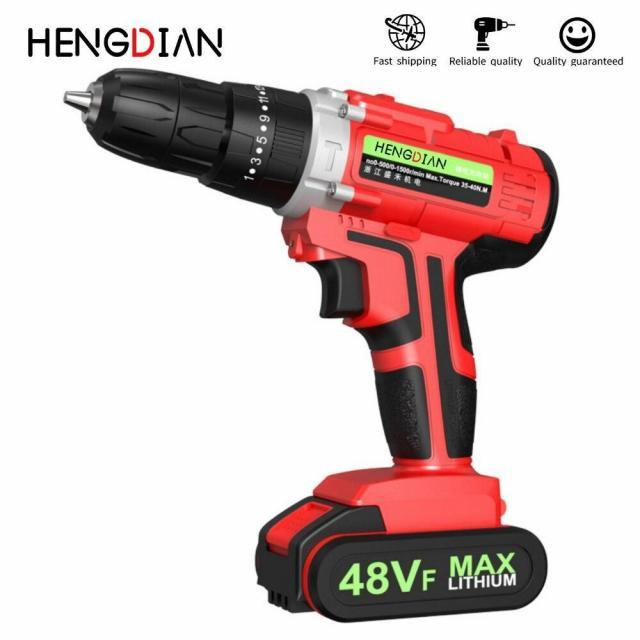drill: (62, 68, 560, 624)
